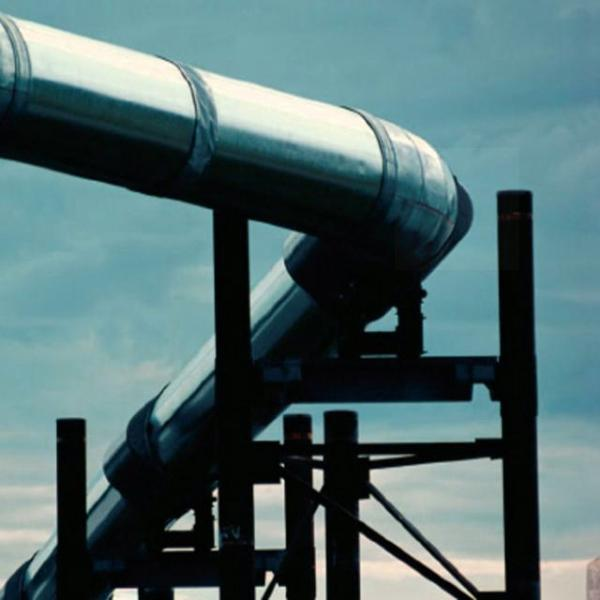crack: (395, 148, 519, 270)
